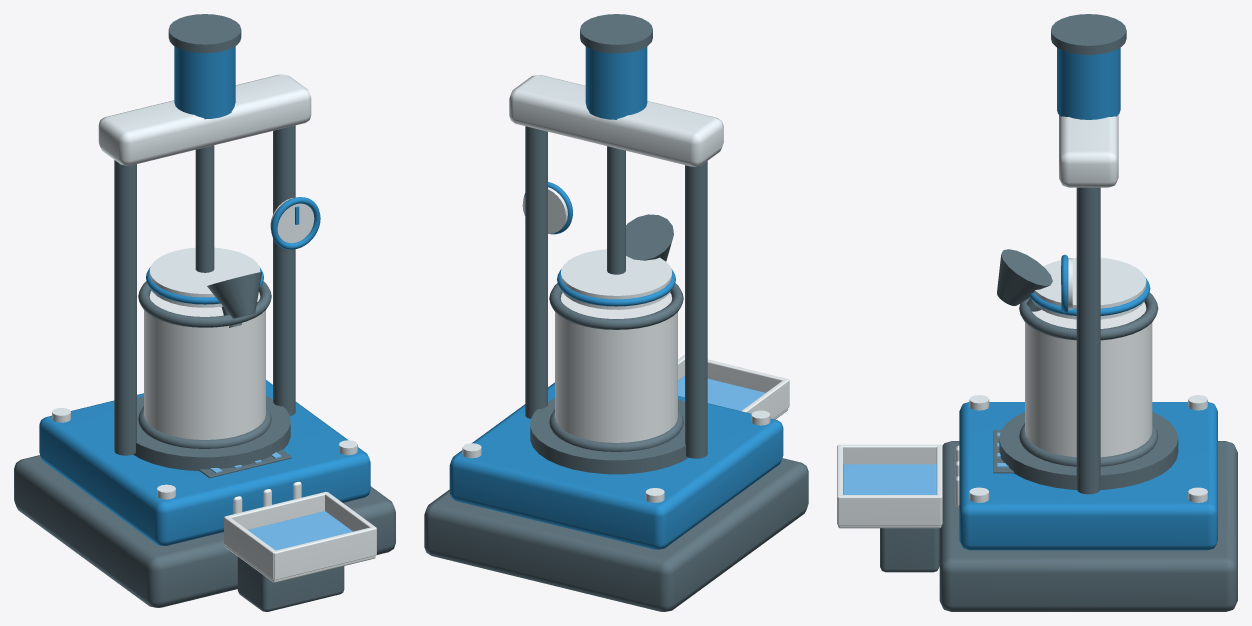
Rendered from WaterPress.fbx.
3 views of the same model, side by side, from view 1: azimuth 30°, elevation 25°; view 2: azimuth 150°, elevation 25°; view 3: azimuth 270°, elevation 25° (orthographic). The views are drawn at different scales.
Parts seen in each view (by area): view 1: MachineBody.003, Base.003, Piston; view 2: MachineBody.003, Base.003, Piston; view 3: Base.003, MachineBody.003, Piston.
Part boxes in pixels (x1,y1,x2,y2): MachineBody.003: (98,14,320,471); Base.003: (14,380,395,611); Piston: (146,145,263,307); MachineBody.003: (509,14,723,474); Base.003: (424,355,808,611); Piston: (557,146,675,309); Base.003: (837,395,1237,611); MachineBody.003: (997,14,1178,494); Piston: (1029,257,1150,319).
Size of the model in its own units: 1.5 by 2.91 by 2.01.
